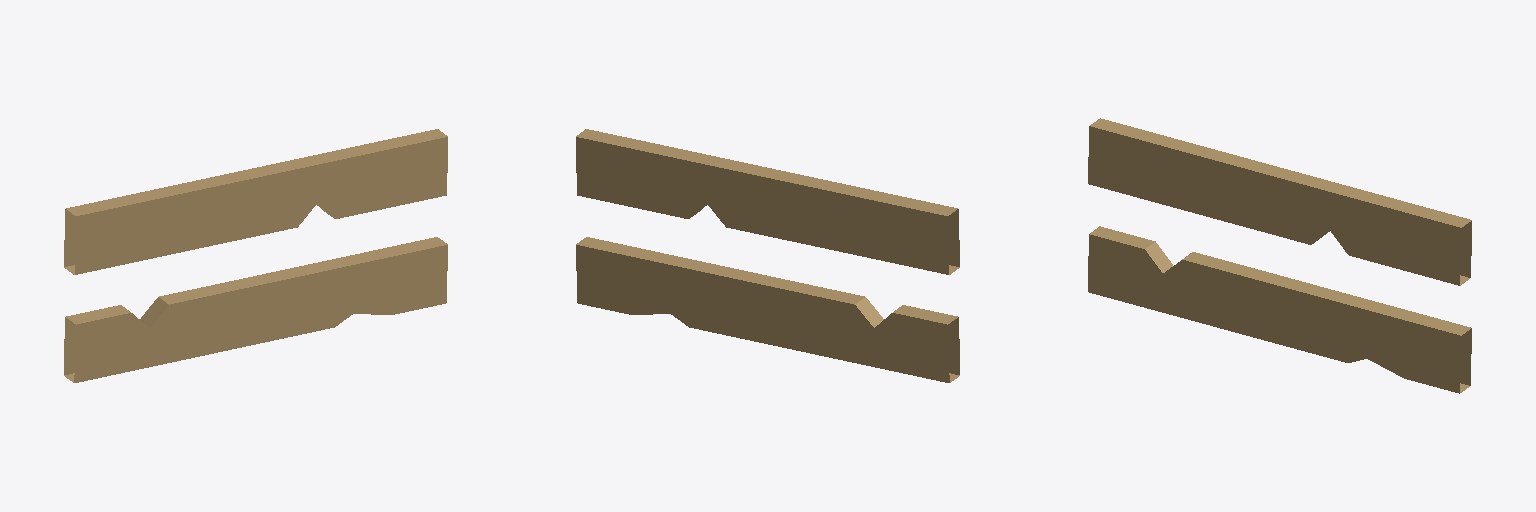
Rendered from Hilly_Prop_Fence_Boards_4.obj.
3 views of the same model, side by side, from view 1: azimuth 30°, elevation 25°; view 2: azimuth 150°, elevation 25°; view 3: azimuth 330°, elevation 25° (orthographic).
Visible parts, largest first — view 1: object1, object2; view 2: object1, object2; view 3: object1, object2.
Boxes of the visible parts, x1,y1,x2,y2 form: object1: [64, 129, 447, 274]; object2: [64, 237, 447, 382]; object1: [576, 129, 959, 274]; object2: [576, 237, 959, 382]; object1: [1088, 118, 1471, 285]; object2: [1088, 226, 1471, 393].
Bounding box in the file's own units: 1 × 0.4552 × 0.05.